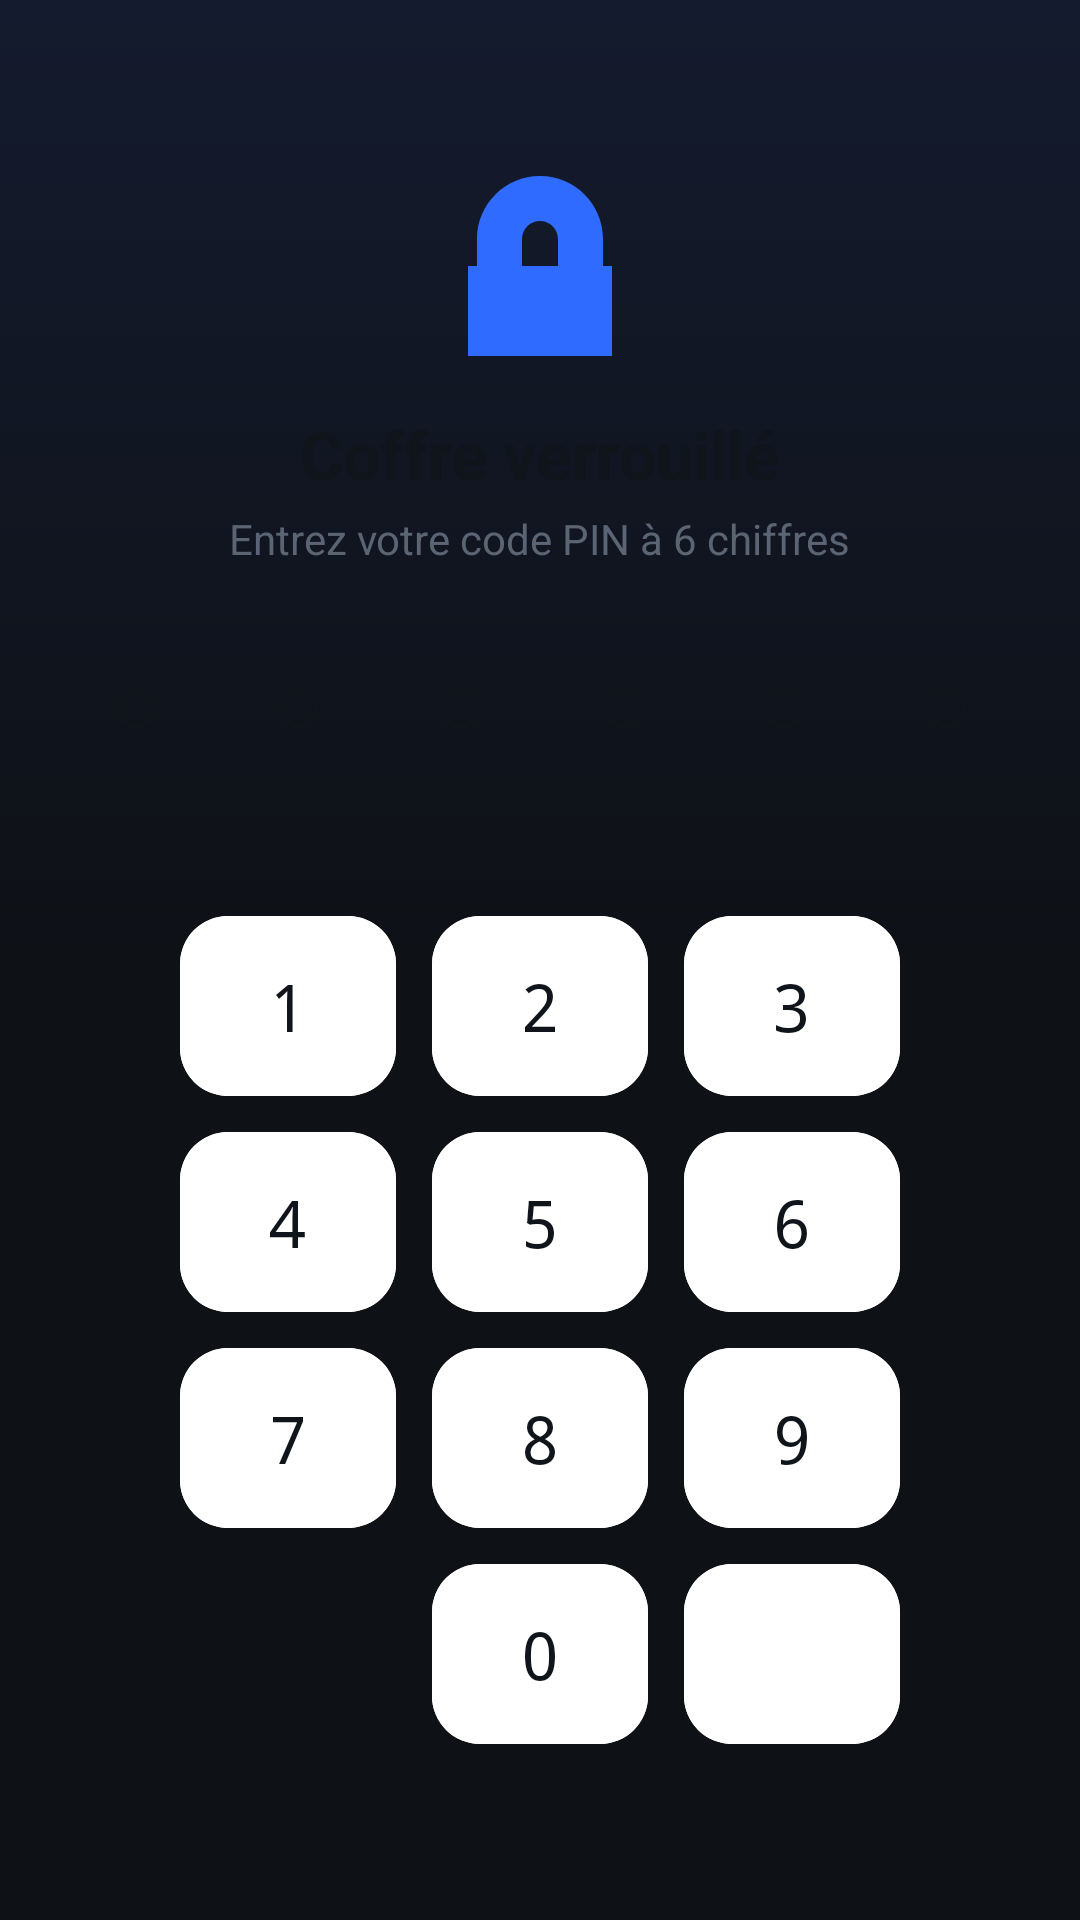

Where to tap for icons on this 1080 x 1920 app screen, as (x,y):
lock: (540,266)
